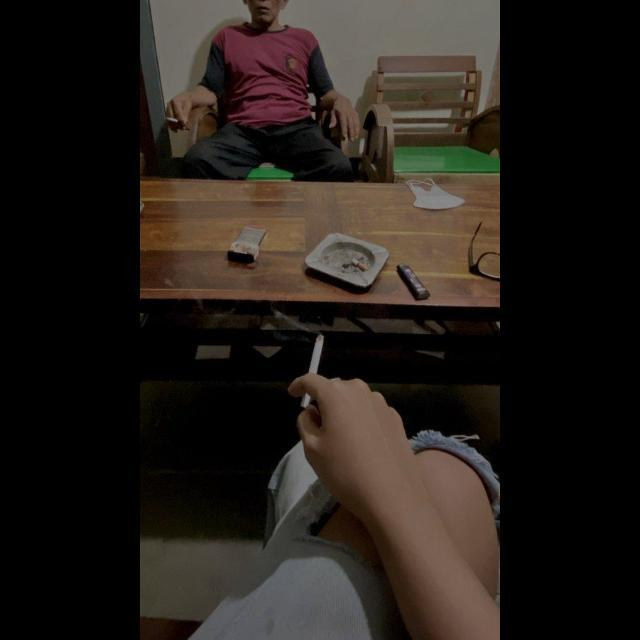rokok: (297, 328, 327, 416)
